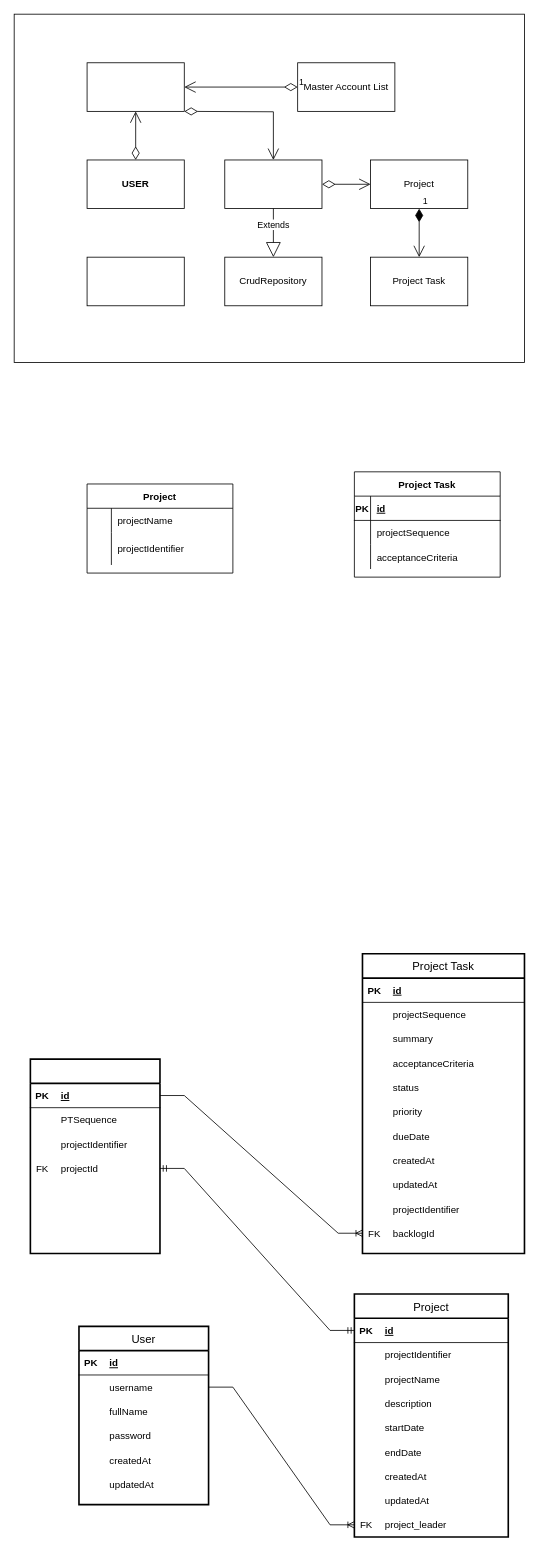
This 539x1552 diagram has some shape labels left out. Here are the shapes that lost their labels. From the top down, the box of each, then its label:
(86, 62, 184, 111): User Account
(224, 159, 322, 209): Project Repository
(86, 256, 184, 306): Database
(29, 1058, 160, 1254): Backlog
